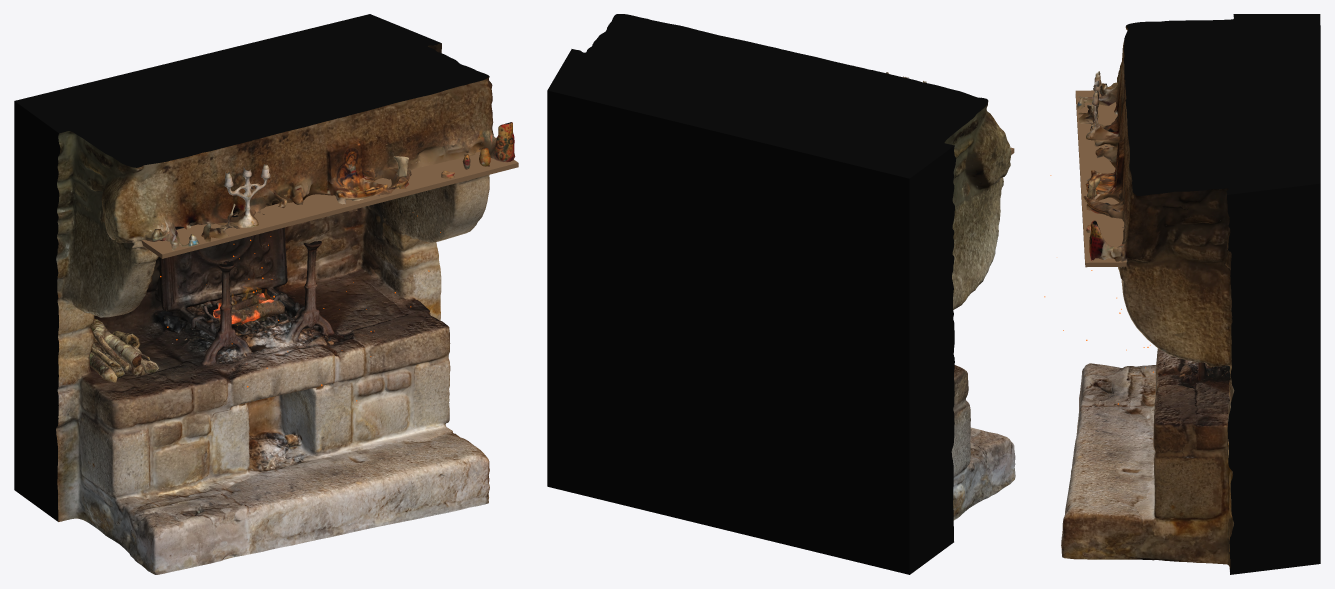
Rendered from rustic_fireplace.glb.
The picture shows the model from 3 angles, left to right: view 1: azimuth 30°, elevation 25°; view 2: azimuth 150°, elevation 25°; view 3: azimuth 270°, elevation 25°; orthographic projection. The views are drawn at different scales.
Parts seen in each view (by area): view 1: fireplace, back_cover, plank, logs_stack, burning_logs; view 2: back_cover, fireplace; view 3: back_cover, fireplace, plank.
Part boxes in pixels (left/top/right/bottom): fireplace: left=56, top=43, right=515, bottom=574; back_cover: left=14, top=14, right=489, bottom=521; plank: left=141, top=151, right=518, bottom=258; logs_stack: left=89, top=318, right=158, bottom=382; burning_logs: left=213, top=293, right=284, bottom=324; back_cover: left=547, top=14, right=988, bottom=574; fireplace: left=858, top=67, right=1015, bottom=520; back_cover: left=1123, top=14, right=1320, bottom=574; fireplace: left=1061, top=26, right=1234, bottom=569; plank: left=1075, top=90, right=1126, bottom=267.
Bounding box in the file's own units: 2.47 × 2.38 × 1.57.
9 materials, 6 textured.
